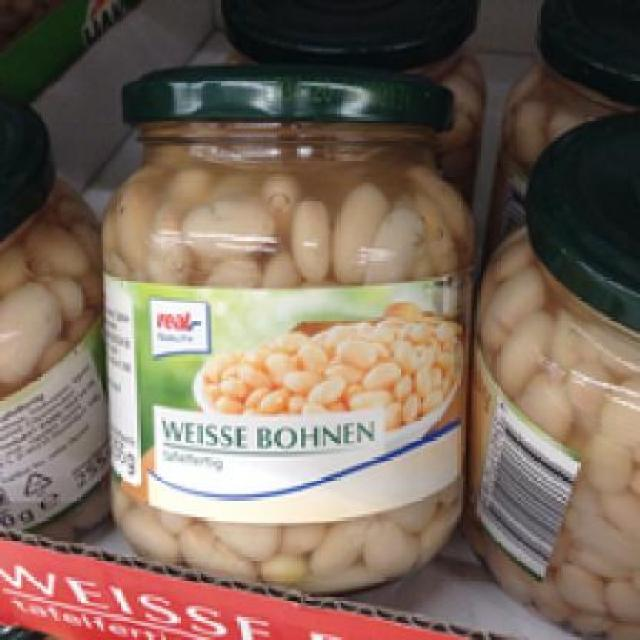Beans: (102, 51, 472, 588), (482, 91, 638, 604)
